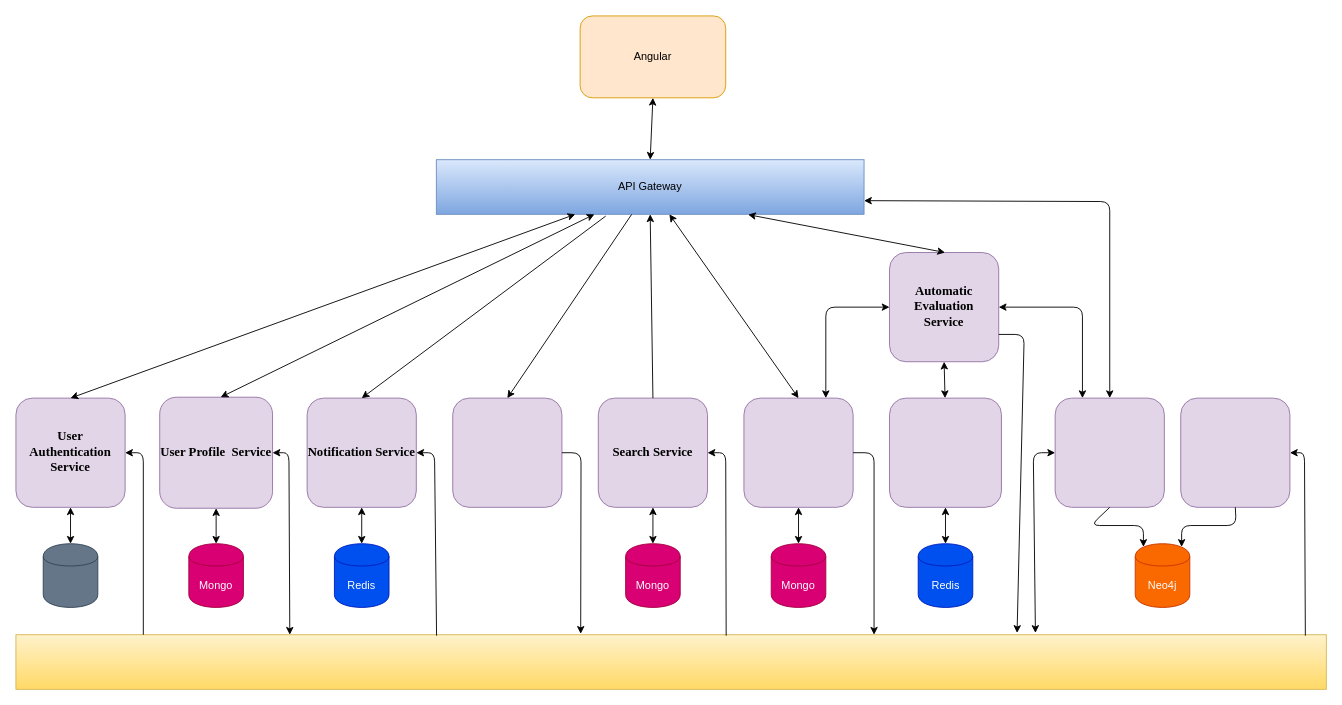
Some shapes in this 1342 by 705 pixel diagram are drawn without their labels. Here are the shapes that lost their labels. From the top down, the box of each, then its label:
(452, 397, 562, 507): NLP Service
(743, 397, 853, 507): Q&A Service
(889, 397, 1001, 507): Automatic Answer Service
(1054, 397, 1164, 507): Recommendation Query Service
(1180, 397, 1290, 507): Recommendation Command Service
(42, 543, 98, 607): SQL
(15, 634, 1326, 689): RabbitMQ
